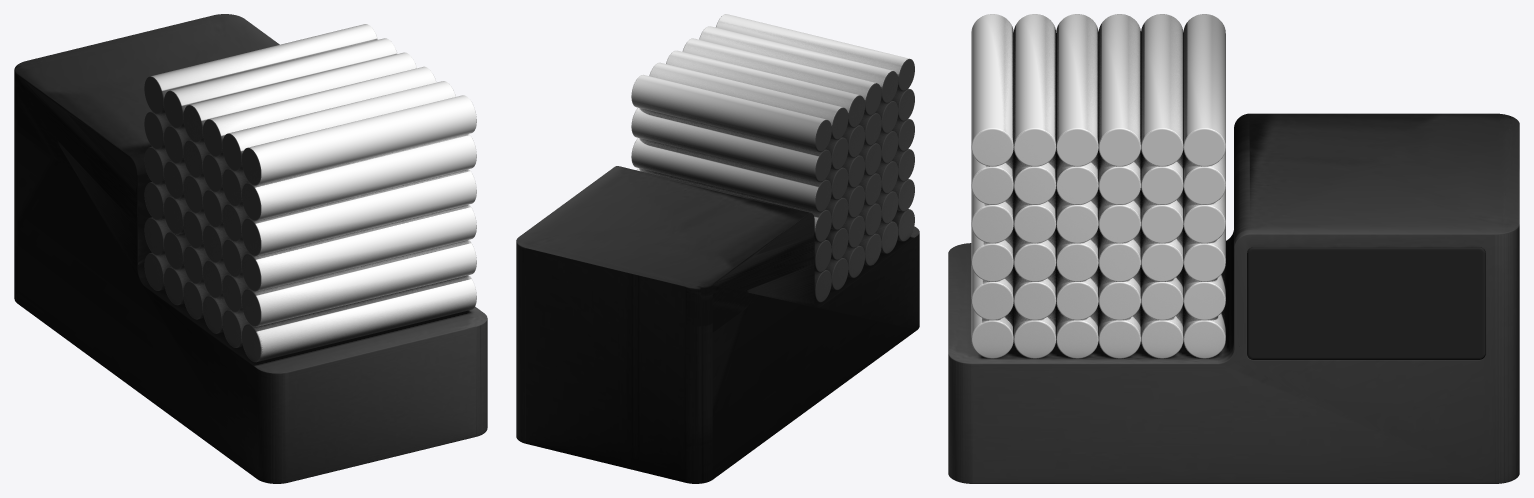
The model's file is colors.glb.
The picture shows the model from 3 angles, left to right: view 1: azimuth 30°, elevation 25°; view 2: azimuth 150°, elevation 25°; view 3: azimuth 270°, elevation 25°; orthographic projection. The views are drawn at different scales.
Parts seen in each view (by area): view 1: Cube, Cylinder.030, Cylinder.006, Cylinder.018, Cylinder.024, Cylinder, Cylinder.012, Cylinder.034, Cylinder.032, Cylinder.033, Cylinder.035, Cylinder.031 (+25 smaller); view 2: Cube, Cylinder.035, Cylinder.023, Cylinder.029, Cylinder.032, Cylinder.031, Cylinder.034, Cylinder.033, Cylinder.030, Cylinder.017, Cylinder.007, Cylinder.001 (+25 smaller); view 3: Cube, Slice, Cylinder.031, Cylinder.030, Cylinder.032, Cylinder.035, Cylinder.033, Cylinder.034, Cylinder.001, Cylinder.007, Cylinder.013, Cylinder.019 (+26 smaller).
Part boxes in pixels (box(x1,y1,x2,y2)): Cube: box(14, 14, 487, 483); Cylinder.030: box(242, 95, 476, 185); Cylinder.006: box(241, 240, 476, 326); Cylinder.018: box(241, 169, 476, 256); Cylinder.024: box(241, 134, 476, 220); Cylinder: box(241, 275, 476, 362); Cylinder.012: box(242, 204, 476, 291); Cylinder.034: box(164, 38, 397, 128); Cylinder.032: box(203, 66, 436, 157); Cylinder.033: box(183, 52, 416, 142); Cylinder.035: box(144, 24, 377, 114); Cylinder.031: box(222, 81, 455, 171); Cube: box(516, 166, 919, 483); Cylinder.035: box(631, 75, 831, 151); Cylinder.023: box(631, 138, 831, 212); Cylinder.029: box(631, 107, 831, 181); Cylinder.032: box(682, 38, 881, 115); Cylinder.031: box(699, 26, 898, 103); Cylinder.034: box(649, 62, 848, 139); Cylinder.033: box(666, 50, 864, 127); Cylinder.030: box(716, 14, 914, 91); Cylinder.017: box(636, 168, 831, 242); Cylinder.007: box(875, 191, 898, 223); Cylinder.001: box(875, 221, 898, 253); Cube: box(948, 113, 1519, 483); Slice: box(1247, 247, 1485, 358); Cylinder.031: box(1013, 14, 1056, 166); Cylinder.030: box(971, 14, 1013, 166); Cylinder.032: box(1056, 14, 1098, 166); Cylinder.035: box(1183, 14, 1225, 166); Cylinder.033: box(1098, 14, 1140, 166); Cylinder.034: box(1141, 14, 1183, 166); Cylinder.001: box(1013, 301, 1056, 358); Cylinder.007: box(1013, 263, 1056, 320); Cylinder.013: box(1013, 224, 1056, 281); Cylinder.019: box(1013, 186, 1056, 243).
Size of what is drawn, in the model's own units: 2 by 2.71 by 4.
Materials: 38 (37 with a texture image).
